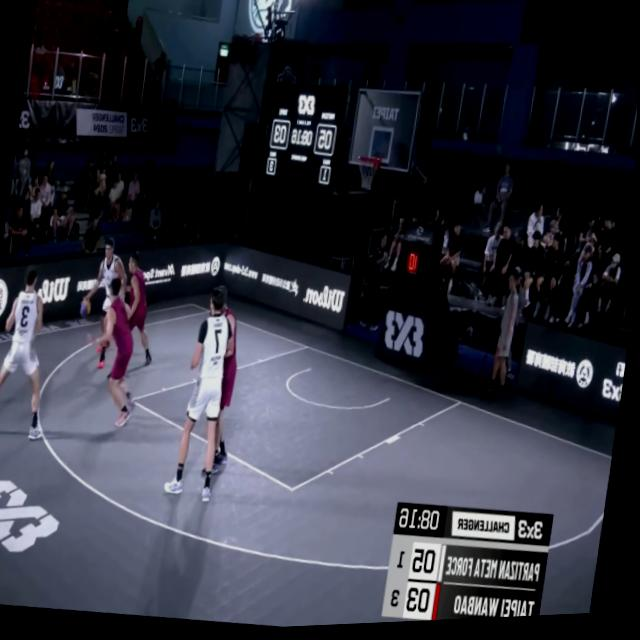ball: (78, 292, 94, 322)
hoop: (354, 155, 383, 198)
player: (161, 285, 241, 509), (185, 279, 252, 484), (77, 273, 152, 435), (0, 263, 63, 438), (75, 231, 147, 368), (111, 249, 167, 374)
